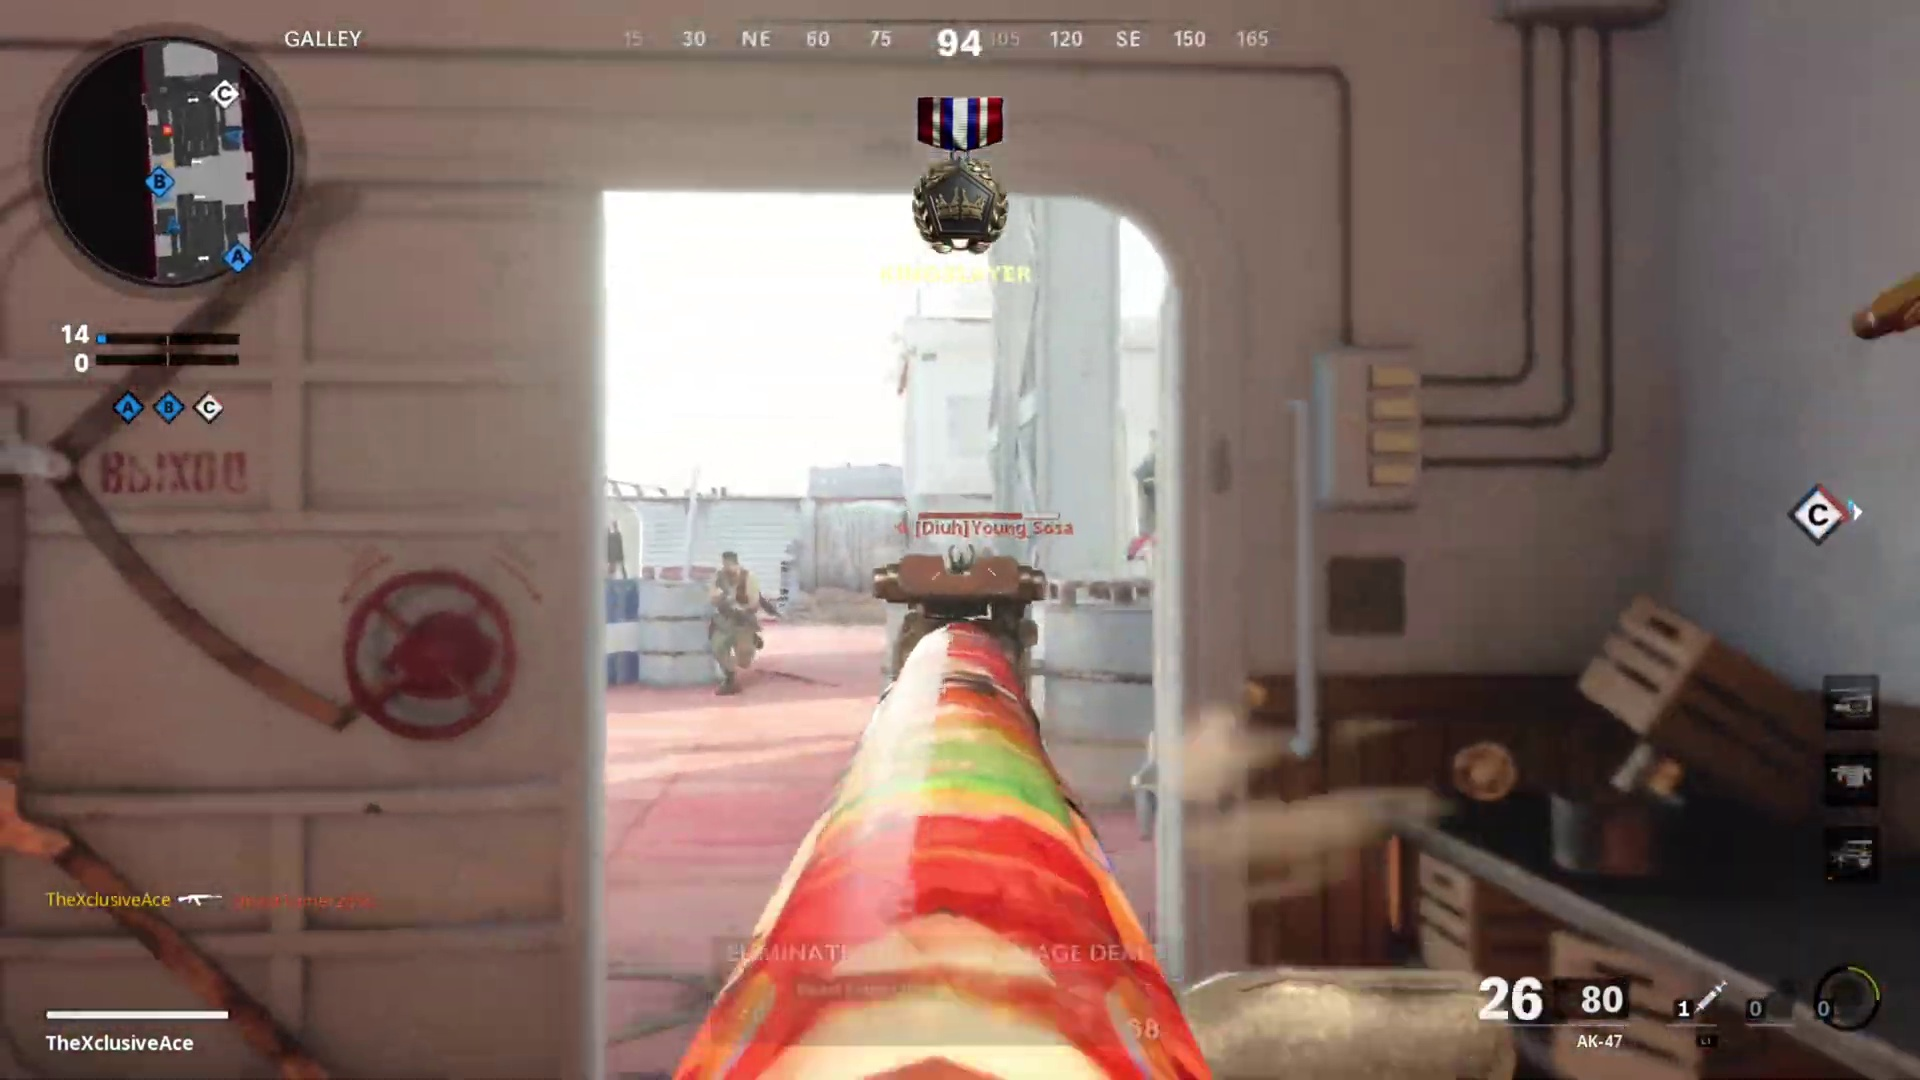head: (714, 548, 746, 587)
person: (704, 547, 760, 690)
